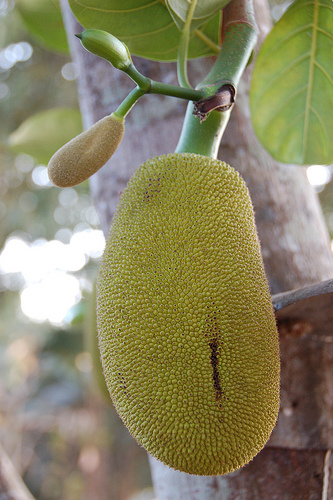jackfruit: (97, 152, 279, 475), (47, 116, 123, 186)
